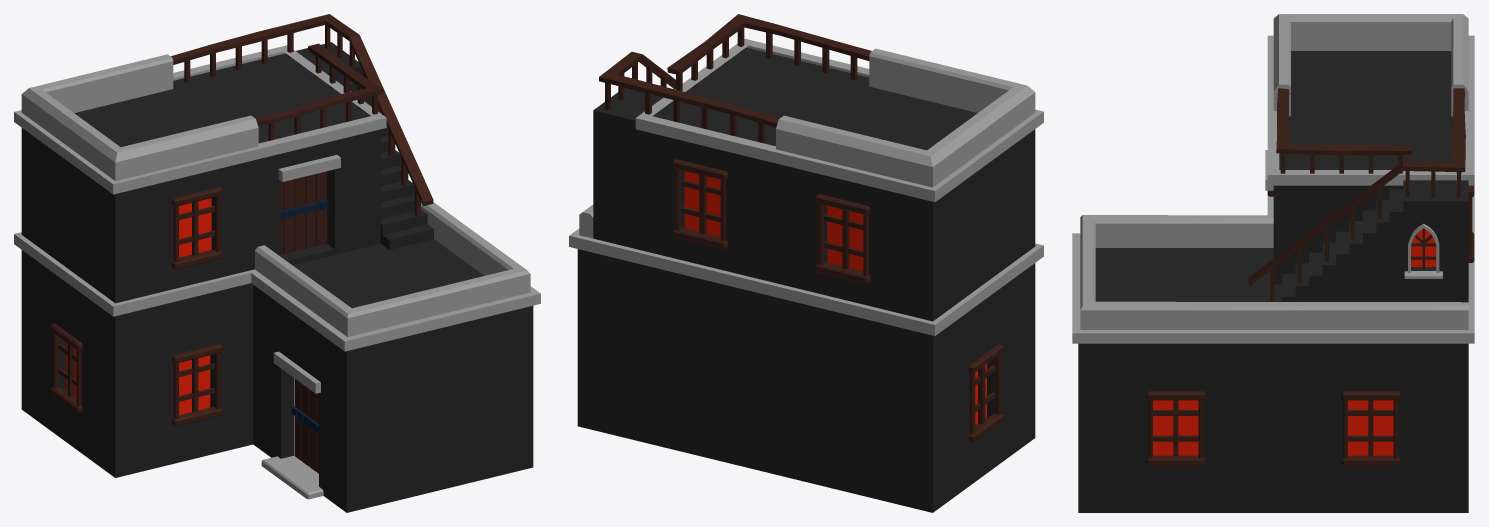
Rendered from civilian_house_33_d.FBX.
3 views of the same model, side by side, from view 1: azimuth 30°, elevation 25°; view 2: azimuth 150°, elevation 25°; view 3: azimuth 270°, elevation 25° (orthographic). The views are drawn at different scales.
Parts seen in each view (by area): view 1: civilian_house_33_d; view 2: civilian_house_33_d; view 3: civilian_house_33_d.
Boxes of the visible parts, bbox=[...] form: civilian_house_33_d: bbox=[14, 14, 540, 512]; civilian_house_33_d: bbox=[569, 14, 1043, 512]; civilian_house_33_d: bbox=[1072, 14, 1474, 512].
Bounding box in the file's own units: 1030 × 952 × 1030.
